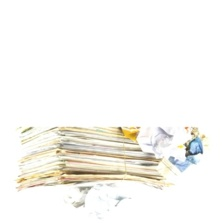news_paper: (8, 125, 172, 195), (120, 125, 214, 181), (59, 181, 134, 223)
